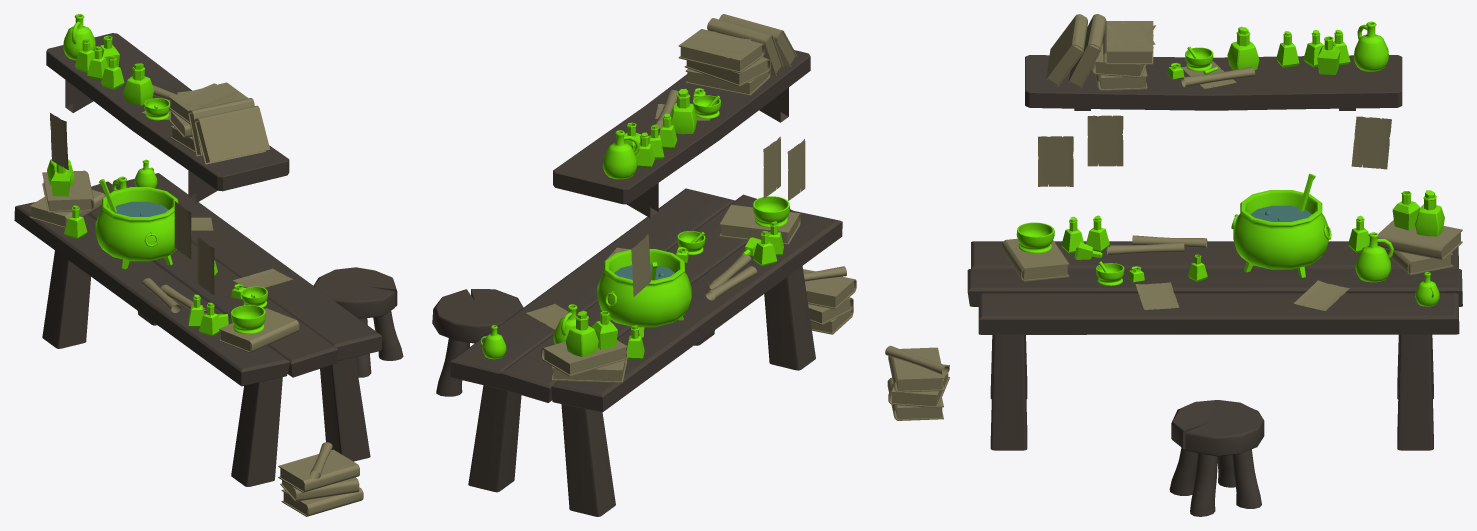
File: alchemy_table.fbx
The picture shows the model from 3 angles, left to right: view 1: azimuth 30°, elevation 25°; view 2: azimuth 150°, elevation 25°; view 3: azimuth 270°, elevation 25°; orthographic projection. The views are drawn at different scales.
Visible parts, largest first — view 1: pCube14, pCube43, polySurface157, polySurface92, pCube57, pCube61, pCube23, pCube64, pCube62, pCube60, pCube63, polySurface134 (+19 smaller); view 2: pCube14, pCube43, polySurface157, polySurface92, pCube64, pCube23, pCube58, pCube61, polySurface137, pCube56, pCube55, polySurface101 (+19 smaller); view 3: pCube14, pCube43, polySurface92, polySurface157, pCube64, pPlane4, pPlane5, pPlane3, pCube23, pCube61, pCube57, polySurface98 (+20 smaller).
Part boxes in pixels (x1,y1,x2,y2): pCube14: (14,173,382,486); pCube43: (46,33,289,202); polySurface157: (95,187,178,269); polySurface92: (313,267,403,377); pCube57: (194,105,270,164); pCube61: (278,449,359,492); pCube23: (219,308,299,352); pCube64: (42,170,94,212); pCube62: (281,487,363,516); pCube60: (280,477,359,501); pCube63: (29,190,105,227); polySurface134: (123,63,153,105); pCube14: (450,188,842,516); pCube43: (553,50,810,217); polySurface157: (597,249,691,337); polySurface92: (432,289,523,396); pCube64: (541,340,627,376); pCube23: (719,204,800,244); pCube58: (678,29,764,73); pCube61: (803,269,856,309); polySurface137: (602,130,639,179); pCube56: (707,18,783,75); pCube55: (684,57,770,86); polySurface101: (565,310,598,356); pCube14: (967,241,1462,450); pCube43: (1025,55,1402,110); polySurface92: (1169,400,1264,516); polySurface157: (1231,190,1331,277); pCube64: (1377,220,1462,260); pPlane4: (1087,115,1123,166); pPlane5: (1351,116,1391,169); pPlane3: (1038,136,1073,186); pCube23: (1002,238,1069,281); pCube61: (888,347,944,392); pCube57: (1046,14,1087,86); polySurface98: (1355,232,1393,282).
Bounding box in the file's own units: 176 × 213 × 303.
